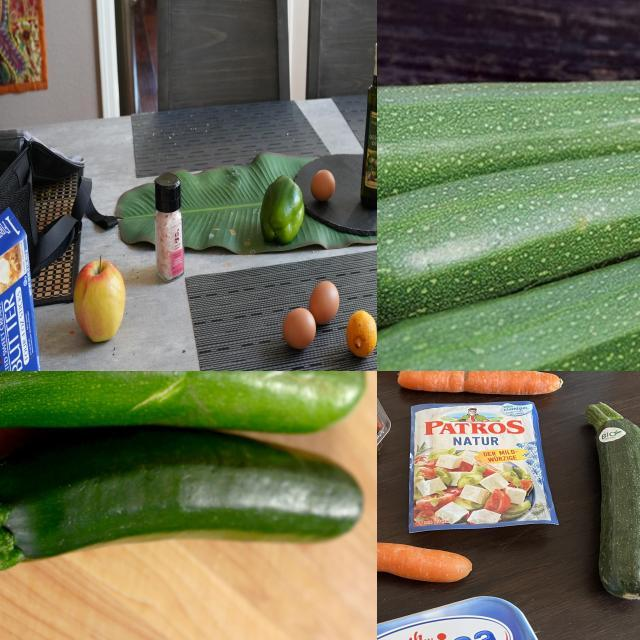bell_pepper: (258, 174, 310, 248)
carrot: (378, 534, 499, 600), (395, 372, 584, 407)
egg: (282, 308, 314, 352), (312, 280, 339, 325), (310, 168, 334, 206)
zucchini: (378, 141, 640, 333), (378, 184, 640, 372), (1, 372, 378, 461), (378, 42, 640, 164), (586, 398, 640, 610)
